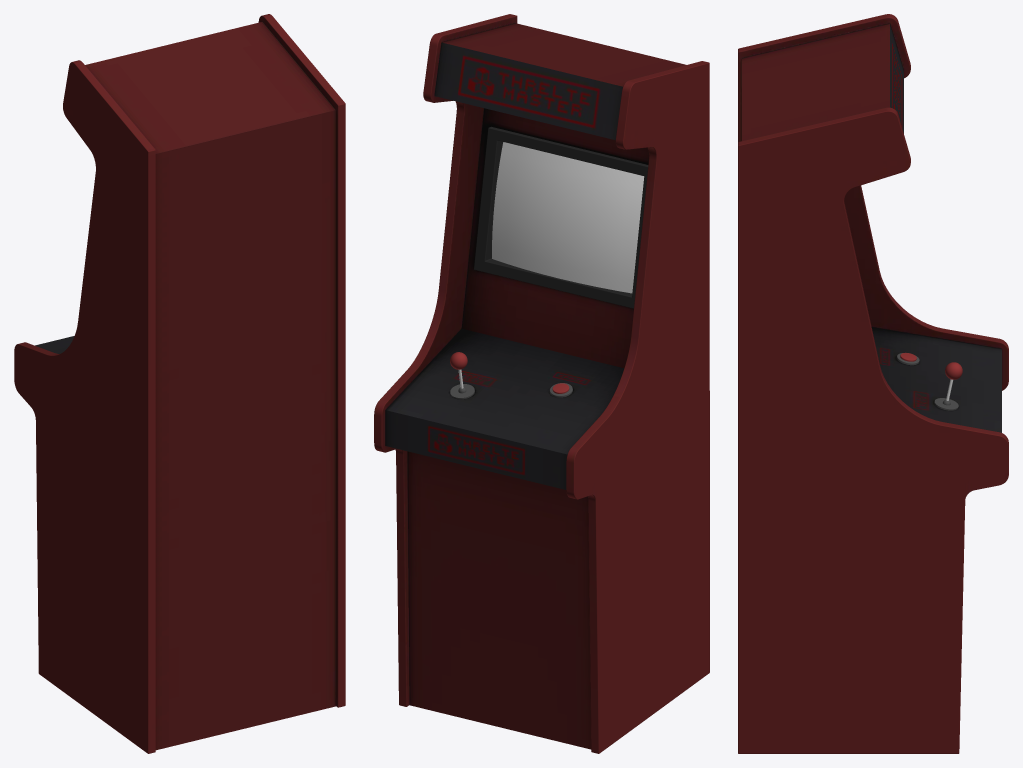
File: arcade_machine_own-transformed.glb
3 views of the same model, side by side, from view 1: azimuth 30°, elevation 25°; view 2: azimuth 150°, elevation 25°; view 3: azimuth 270°, elevation 25° (orthographic).
Visible parts, largest first — view 1: BodyMesh, RightCover, LeftCover; view 2: BodyMesh, RightCover, Screen, LeftCover, ScreenFrame; view 3: LeftCover, BodyMesh, RightCover.
Boxes of the visible parts, box(x1,y1,x2,y2) form: BodyMesh: box(35, 21, 335, 750); RightCover: box(14, 60, 155, 753); LeftCover: box(258, 14, 345, 707); BodyMesh: box(385, 23, 685, 749); RightCover: box(566, 61, 709, 753); Screen: box(492, 142, 644, 293); LeftCover: box(374, 14, 517, 706); ScreenFrame: box(474, 126, 648, 308); LeftCover: box(738, 107, 1008, 753); BodyMesh: box(742, 23, 1001, 432); RightCover: box(738, 14, 1008, 390).
Bounding box in the file's own units: 0.625 × 1.92 × 0.7342.
Materials: 7 (2 with a texture image).
